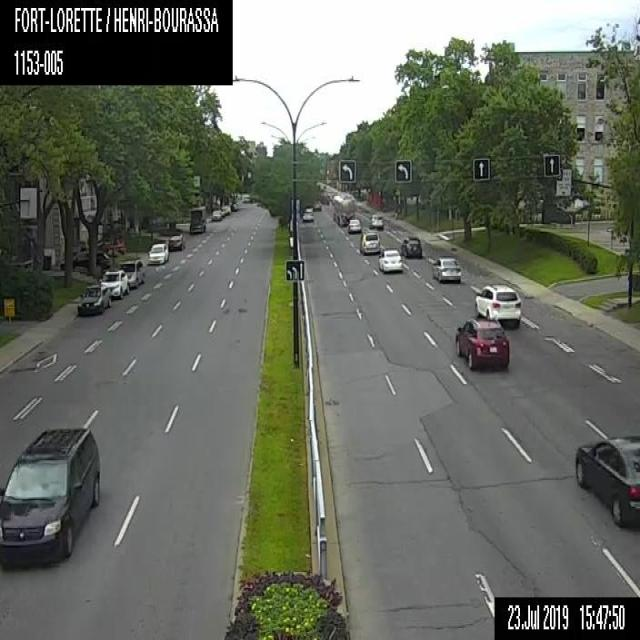vehicle: (0, 423, 99, 569), (573, 432, 639, 529), (454, 318, 511, 373), (473, 281, 522, 327), (74, 282, 112, 318), (59, 249, 109, 272), (429, 255, 463, 282), (118, 258, 146, 287), (100, 268, 128, 297), (331, 194, 357, 224), (379, 246, 400, 272), (188, 204, 205, 233), (147, 241, 168, 263), (360, 231, 380, 253), (401, 235, 421, 257), (168, 234, 184, 250), (369, 211, 384, 228), (302, 205, 313, 221), (348, 218, 360, 230), (210, 208, 221, 221), (312, 200, 321, 210)
